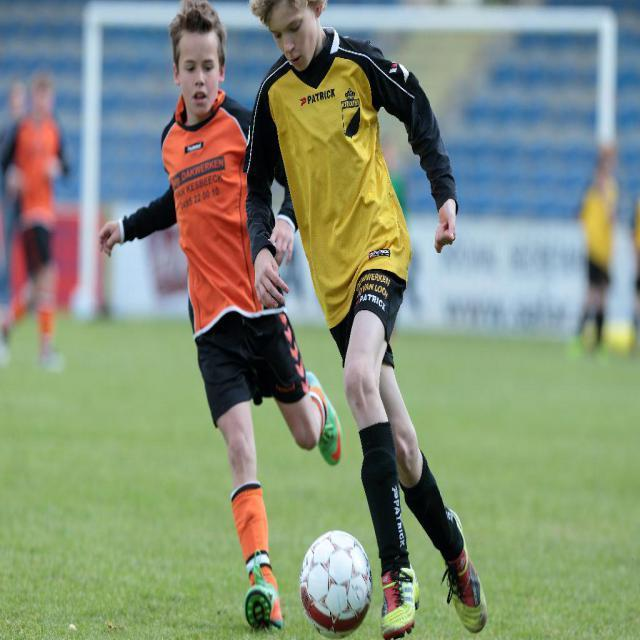football: (301, 515, 382, 639)
